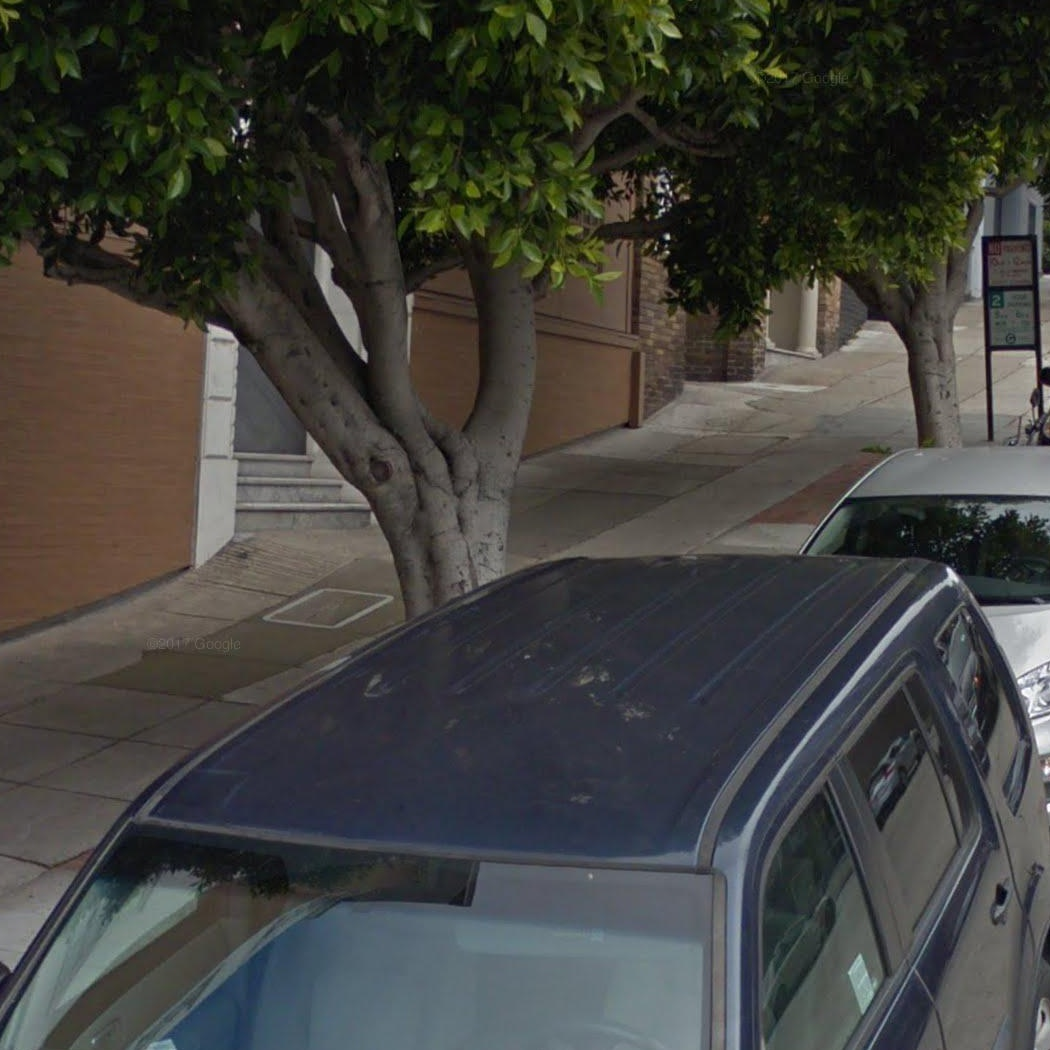2 Hour Parking: (986, 291, 1038, 348)
No Parking: (985, 238, 1038, 288)
